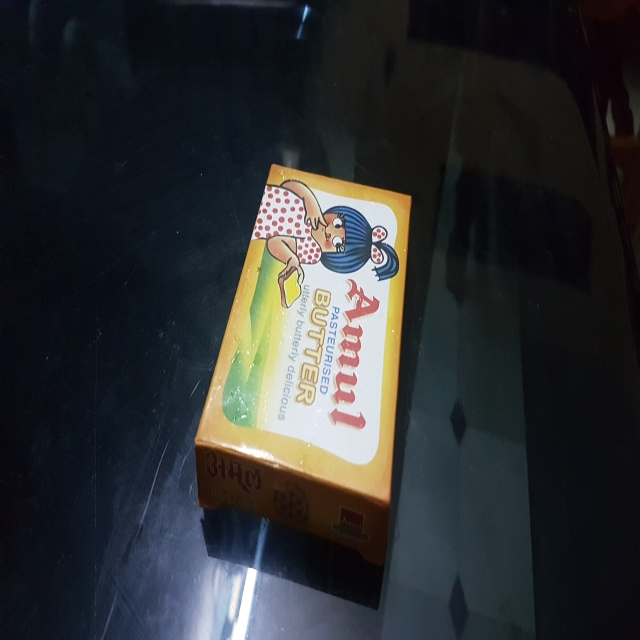butter: (203, 158, 419, 566)
